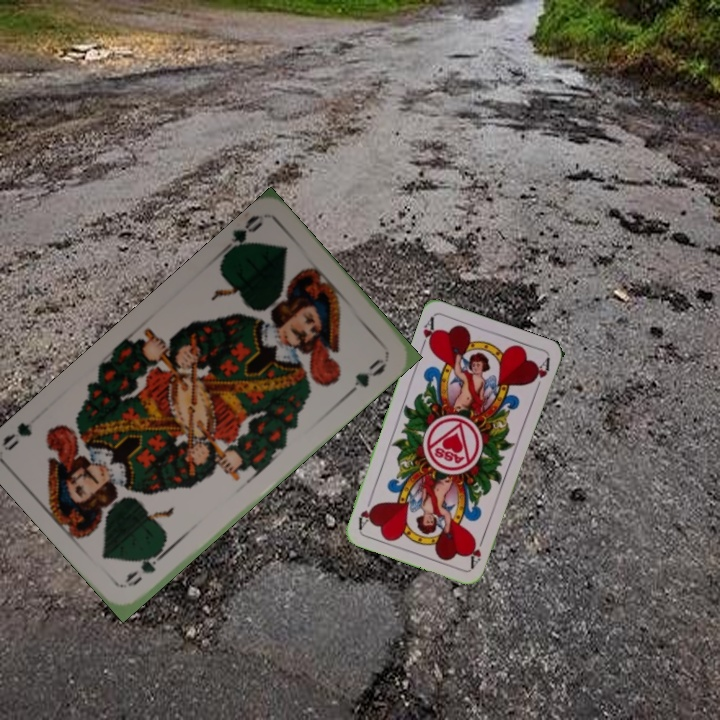GO: (216, 210, 266, 262), (120, 541, 172, 590)
HA: (417, 312, 440, 352), (466, 531, 487, 570)
